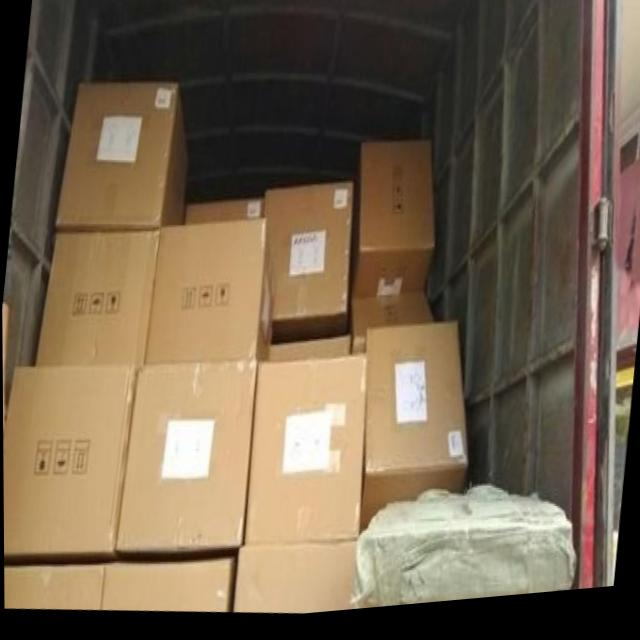box: (3, 365, 144, 562), (115, 363, 259, 550), (243, 358, 365, 545), (359, 327, 467, 536), (54, 82, 190, 231), (144, 223, 278, 366), (34, 228, 158, 363), (263, 187, 354, 348), (348, 147, 433, 305), (230, 543, 359, 613), (100, 558, 236, 613), (349, 295, 432, 360), (3, 562, 105, 609), (270, 337, 350, 367), (183, 201, 263, 225)
